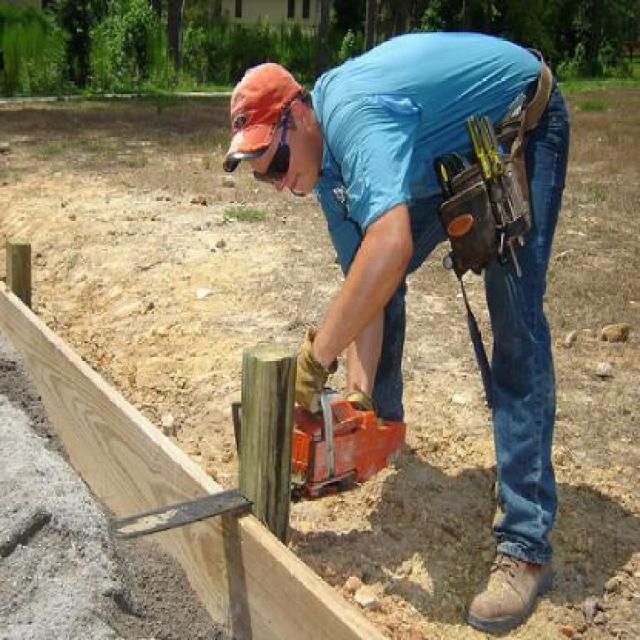Chainsaw: (107, 393, 407, 538)
